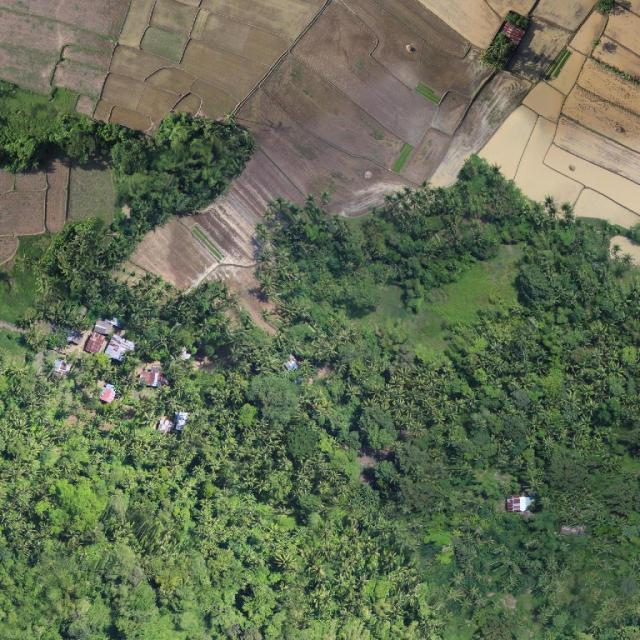agricultural_land: (0, 151, 123, 262)
greenland: (0, 84, 640, 640)
